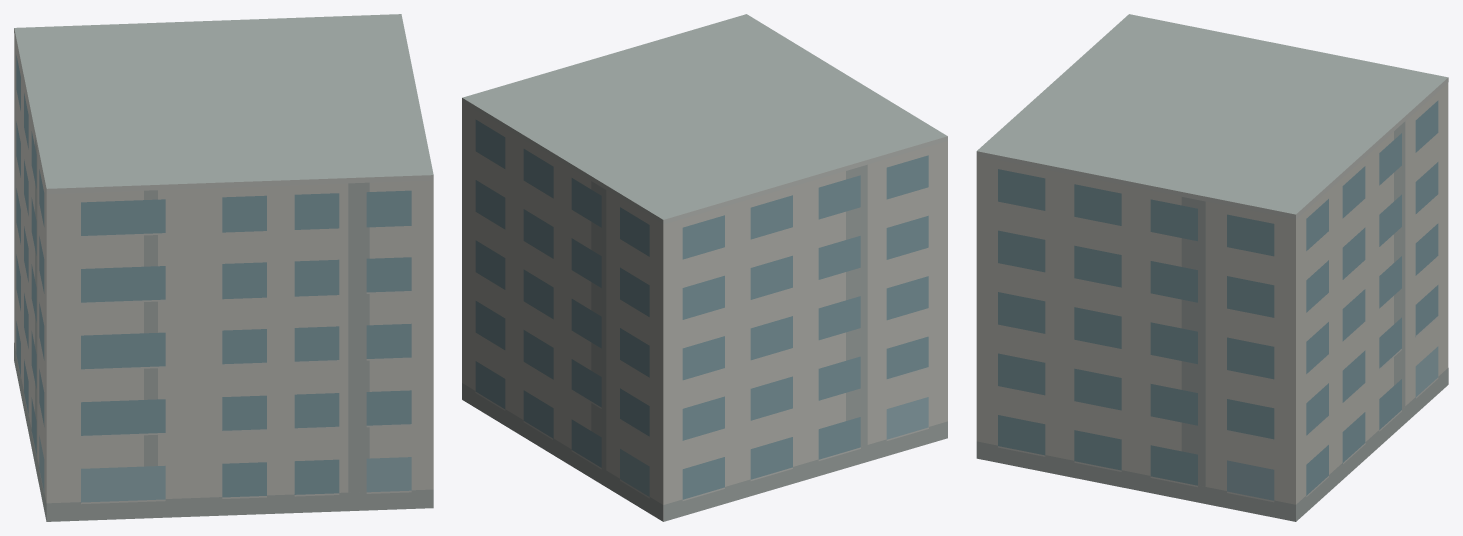
Rendered from residential-59e45de7-bb50-4a3b-a4be-e917cf684ae5.glb.
The picture shows the model from 3 angles, left to right: view 1: azimuth 30°, elevation 25°; view 2: azimuth 150°, elevation 25°; view 3: azimuth 270°, elevation 25°; orthographic projection. The views are drawn at different scales.
Parts seen in each view (by area): view 1: residential-59e45de7-bb50-4a3b-a4be-e917cf684ae5.tmp; view 2: residential-59e45de7-bb50-4a3b-a4be-e917cf684ae5.tmp; view 3: residential-59e45de7-bb50-4a3b-a4be-e917cf684ae5.tmp.
Part boxes in pixels (<box>): residential-59e45de7-bb50-4a3b-a4be-e917cf684ae5.tmp: <box>14,14,433,521</box>; residential-59e45de7-bb50-4a3b-a4be-e917cf684ae5.tmp: <box>462,14,947,521</box>; residential-59e45de7-bb50-4a3b-a4be-e917cf684ae5.tmp: <box>976,14,1448,521</box>.
Size of the model in its own units: 21.35 by 15.25 by 21.23.
